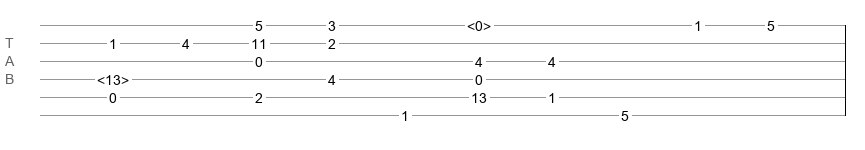0: (109, 90, 117, 100), (255, 54, 263, 64), (475, 72, 483, 82)
1: (109, 36, 117, 46), (401, 108, 409, 118), (548, 90, 556, 100), (694, 18, 702, 28)
11: (251, 36, 267, 46)
13: (471, 90, 487, 100)
2: (255, 90, 263, 100), (328, 36, 336, 46)
3: (328, 18, 336, 28)
4: (182, 36, 190, 46), (328, 72, 336, 82), (475, 54, 483, 64), (548, 54, 556, 64)
5: (255, 18, 263, 28), (621, 108, 629, 118), (767, 18, 775, 28)
harmonic: (97, 72, 129, 82), (467, 18, 491, 28)
